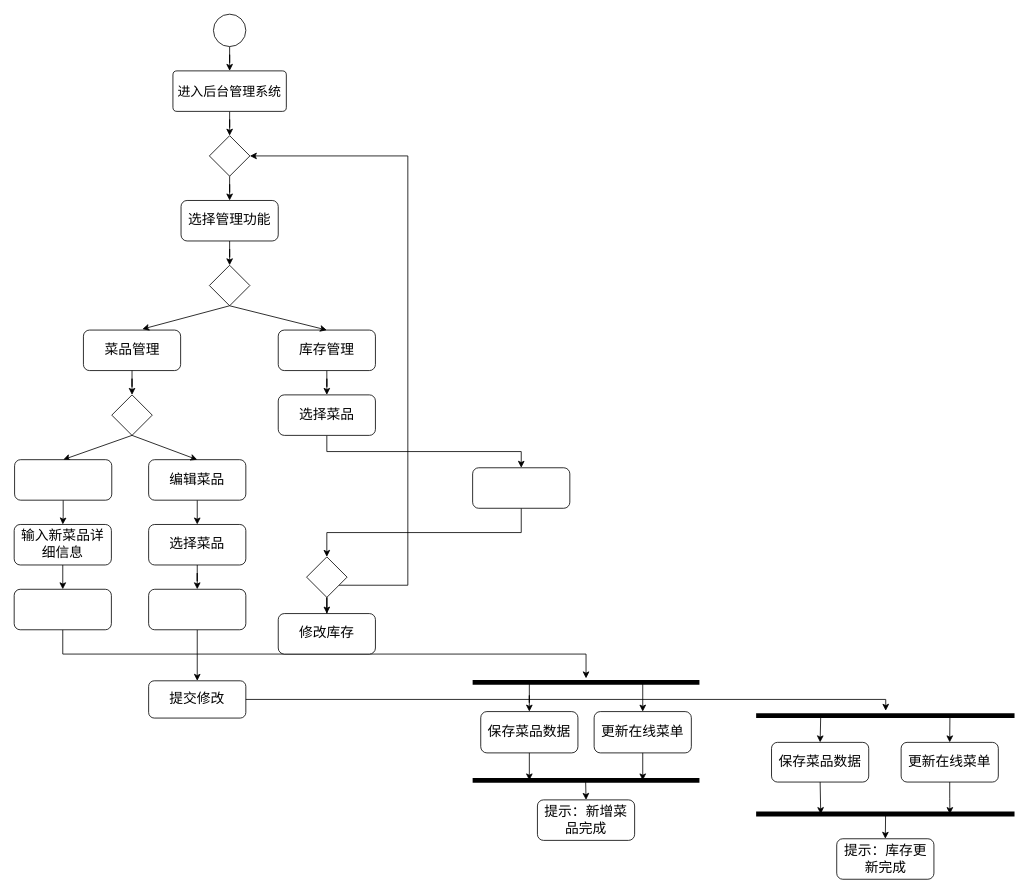
Some shapes in this 1031 by 893 pixel diagram are drawn without their labels. Here are the shapes that lost their labels. From the top down, the box of each, then its label:
(14, 459, 112, 500): 新增菜品
(472, 467, 570, 508): 显示当前库存
(13, 588, 111, 630): 提交新增
(148, 588, 246, 630): 修改菜品信息
